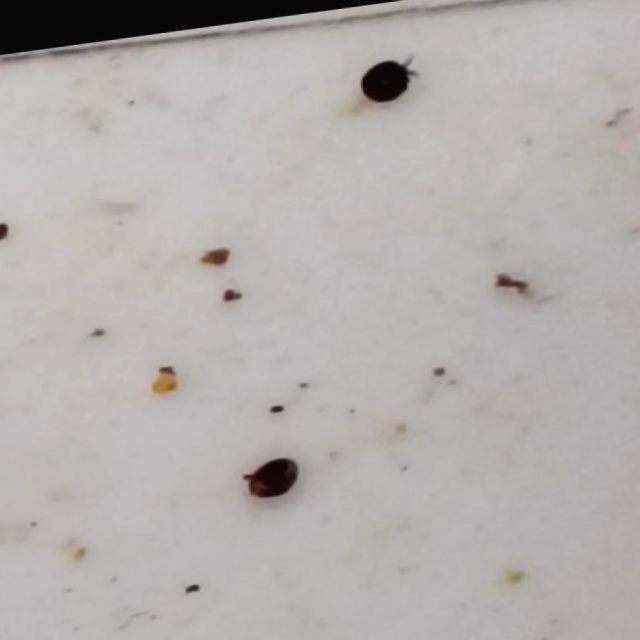varroa: (355, 52, 416, 104), (244, 451, 300, 497)
